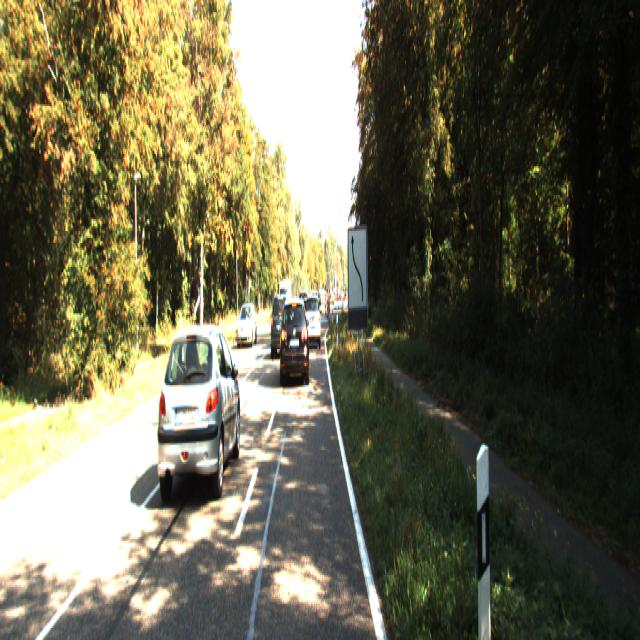Car: (156, 319, 242, 506), (280, 294, 309, 384), (270, 291, 293, 356), (237, 301, 257, 346), (305, 292, 321, 345)
